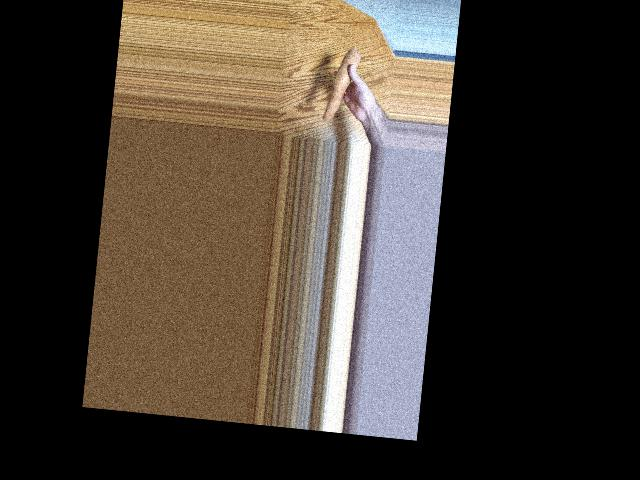sweet_potato: (328, 47, 357, 127)
